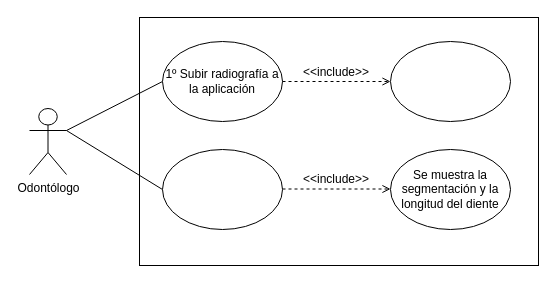
This 556x283 diagram has some shape labels left out. Each missing label, with the centre of its shape:
"2º Se ejecuta proceso de cálculo de la longitud del diente" belongs at point (222, 189).
"Se muestra el nombre de todas las radiografías subidas correctamente" belongs at point (450, 81).
